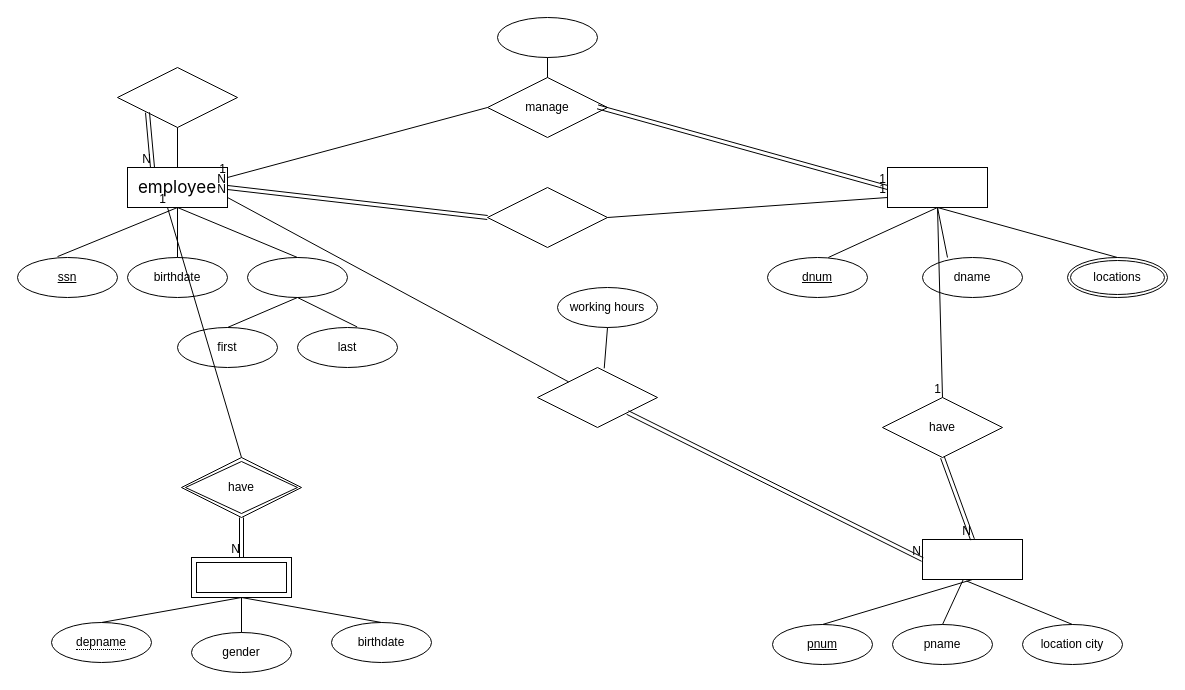
The diagram is 1185 pixels wide and 690 high, and some of its shapes have lost their labels. Here are the shapes that lost their labels. From the top down, the centre of each, then its label:
(x=547, y=37): hire date
(x=177, y=97): supervise
(x=937, y=187): department
(x=547, y=217): work
(x=297, y=277): name
(x=597, y=397): work in
(x=241, y=577): depandent
(x=972, y=559): project
